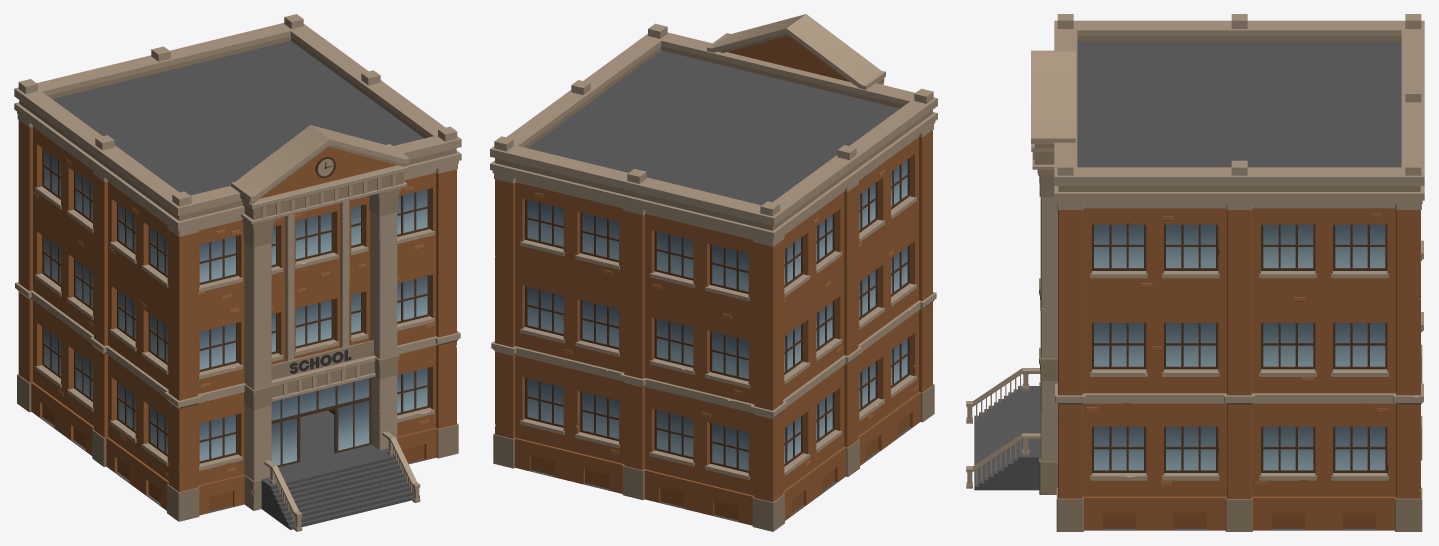
Rendered from SM_Buildings_School_01.fbx.
The picture shows the model from 3 angles, left to right: view 1: azimuth 30°, elevation 25°; view 2: azimuth 150°, elevation 25°; view 3: azimuth 270°, elevation 25°; orthographic projection. The views are drawn at different scales.
Parts seen in each view (by area): view 1: SM_Buildings_School_01; view 2: SM_Buildings_School_01; view 3: SM_Buildings_School_01.
Part boxes in pixels (x1,y1,x2,y2): SM_Buildings_School_01: (14, 14, 461, 531); SM_Buildings_School_01: (490, 14, 937, 531); SM_Buildings_School_01: (966, 14, 1424, 531).
Bounding box in the file's own units: 20.42 × 24.54 × 25.28.
